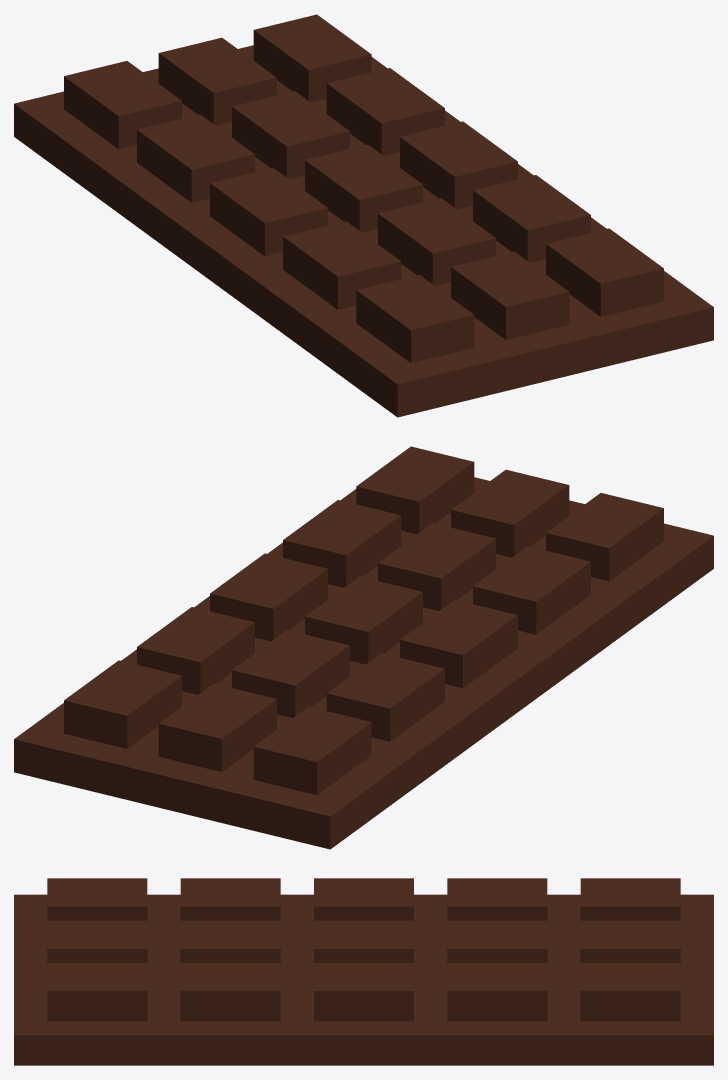
The model's file is Voxel Universe Objects-41.obj.
3 views of the same model, one above another, from view 1: azimuth 30°, elevation 25°; view 2: azimuth 150°, elevation 25°; view 3: azimuth 270°, elevation 25° (orthographic). The views are drawn at different scales.
Bounding box in the file's own units: 1 × 0.2 × 2.1.
1 material, 1 textured.
